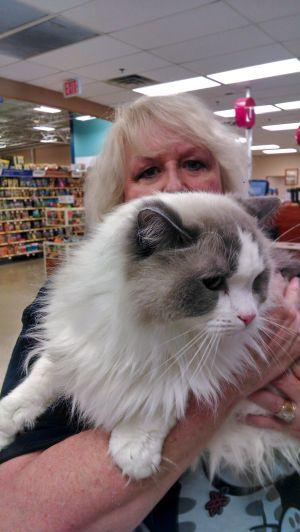ragdoll: (117, 182, 293, 352)
